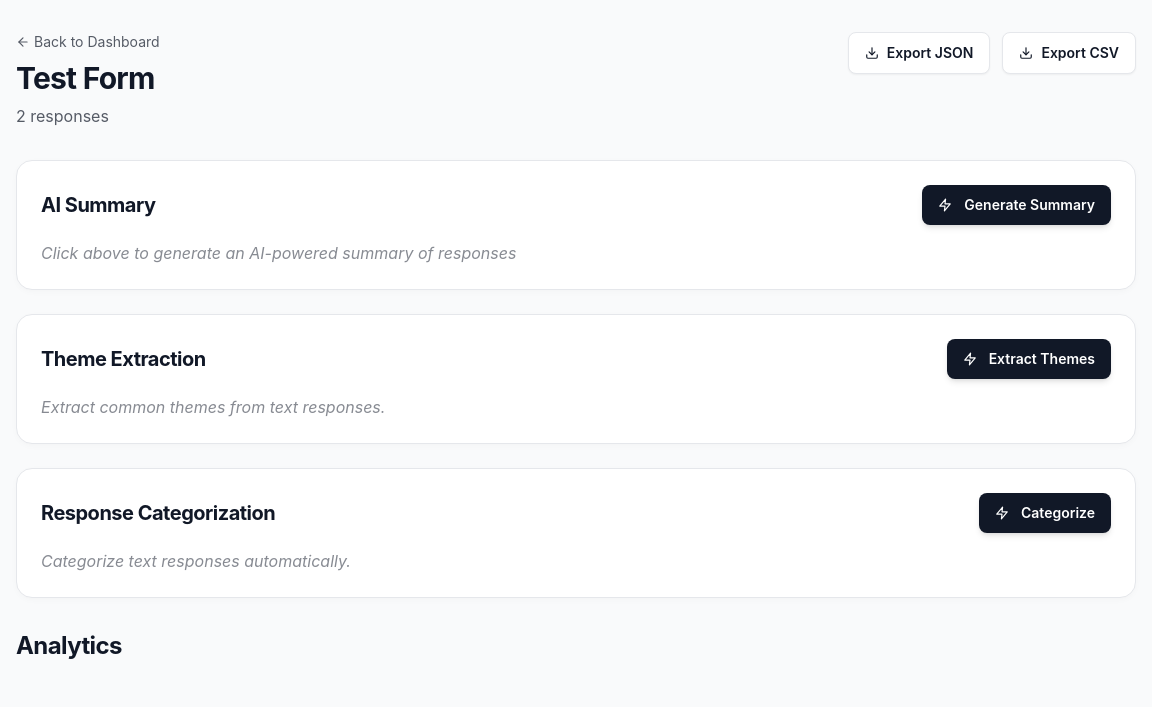
Test: Responses Phase 7 AI Features › handles Theme Extraction
The width and height of the screenshot is (1152, 707).
expect the heading "Theme Extraction" is shown: met, box x1=41 y1=345 x2=206 y2=373
What coordinates should you click on to do the following:
click the button "Extract Themes"
I would click on:
 (1029, 359)
Its box is x1=947 y1=339 x2=1111 y2=379.
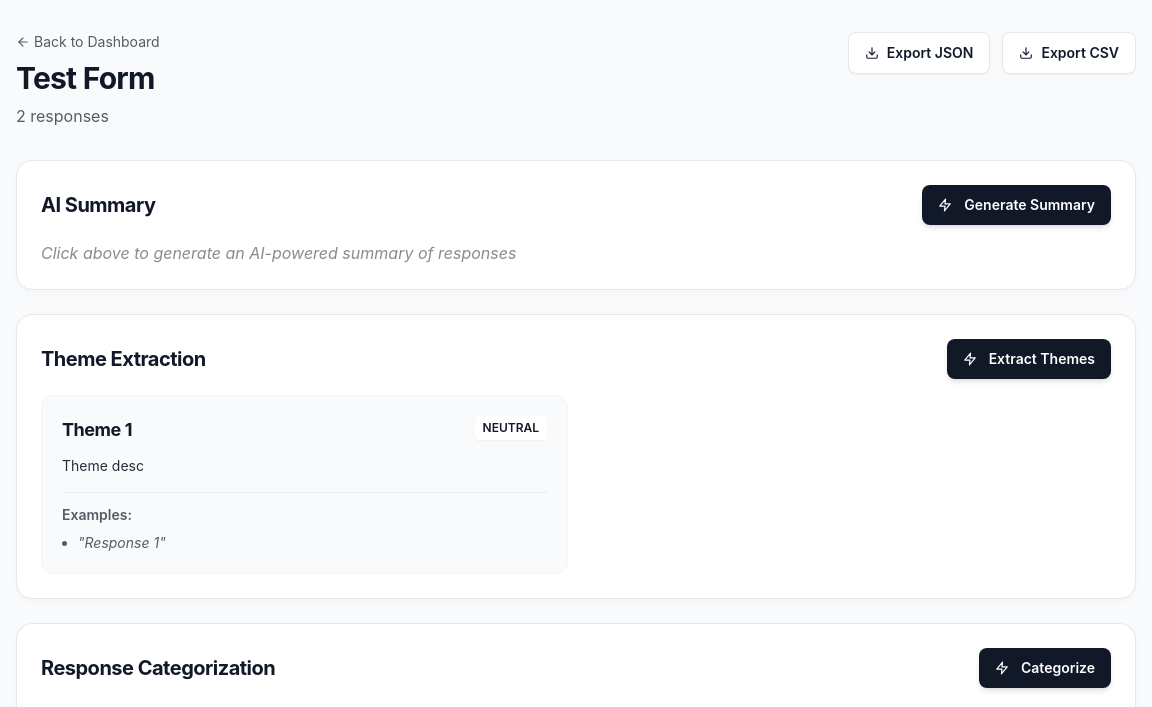
expect the heading "Theme 1" is shown: met, box x1=62 y1=416 x2=132 y2=444
expect the text "Theme desc" is shown: met, box x1=62 y1=457 x2=144 y2=474
expect the list item "\"Response 1\"" is shown: met, box x1=78 y1=534 x2=166 y2=551
